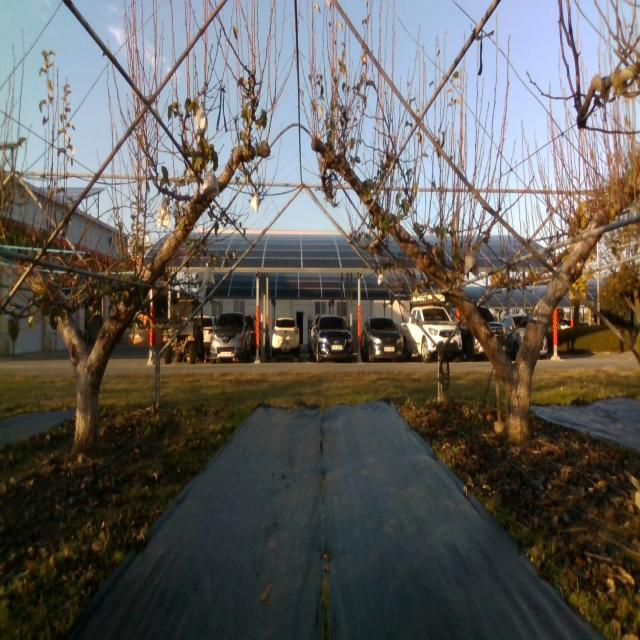pearbags: (202, 171, 220, 197), (196, 106, 208, 137), (464, 253, 479, 277), (157, 203, 170, 230), (203, 267, 215, 285)
